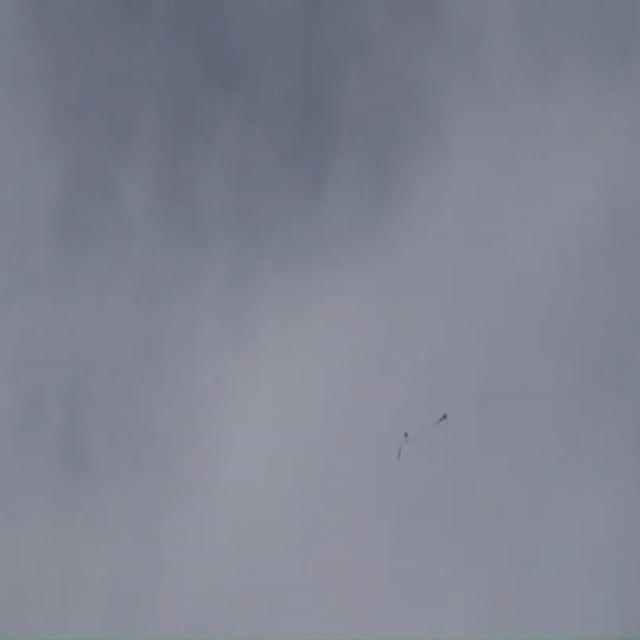Rocket: (439, 412, 447, 423)
